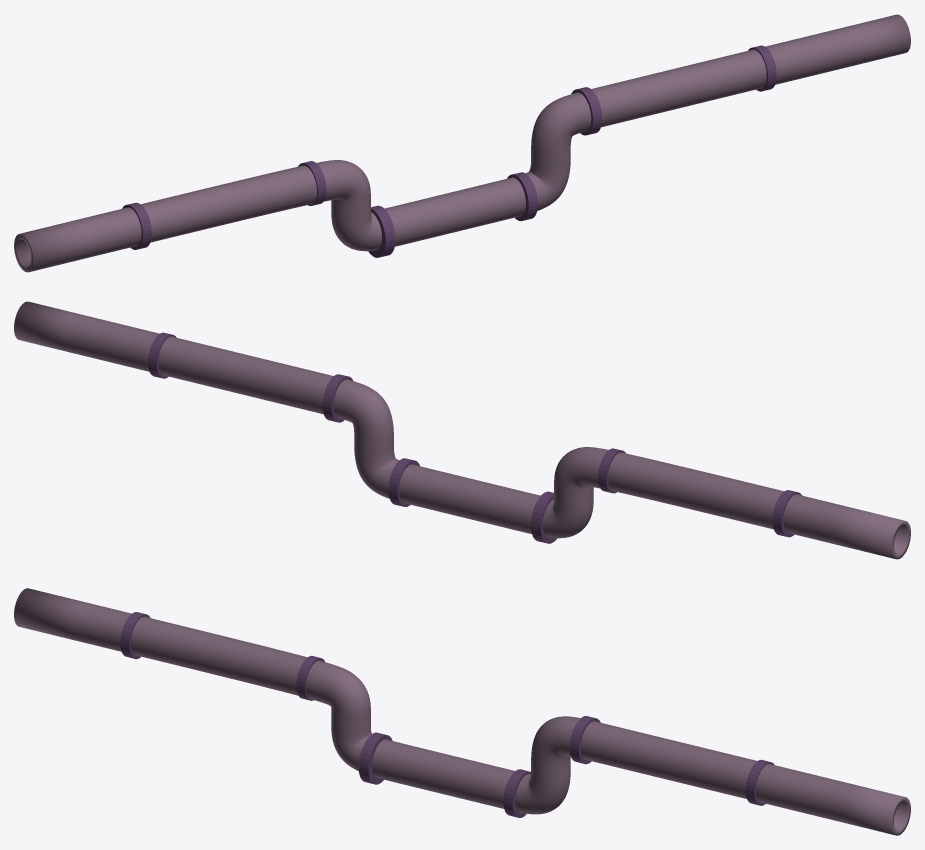
File: パイプ２＿修正版.fbx
3 views of the same model, one above another, from view 1: azimuth 30°, elevation 25°; view 2: azimuth 150°, elevation 25°; view 3: azimuth 330°, elevation 25° (orthographic).
Parts seen in each view (by area): view 1: NURBSパス.002, 円柱.022, 円柱.021, 円柱.018, 円柱.019, 円柱.017; view 2: NURBSパス.002, 円柱.022, 円柱.018, 円柱.021, 円柱.019, 円柱.017; view 3: NURBSパス.002, 円柱.022, 円柱.021, 円柱.018, 円柱.019, 円柱.017.
Boxes of the visible parts, left/top/right/bottom form: NURBSパス.002: left=14, top=14, right=910, bottom=272; 円柱.022: left=368, top=205, right=395, bottom=257; 円柱.021: left=507, top=172, right=537, bottom=221; 円柱.018: left=571, top=87, right=602, bottom=135; 円柱.019: left=122, top=202, right=151, bottom=249; 円柱.017: left=748, top=45, right=776, bottom=91; NURBSパス.002: left=14, top=301, right=910, bottom=559; 円柱.022: left=531, top=491, right=556, bottom=543; 円柱.018: left=322, top=374, right=353, bottom=422; 円柱.021: left=388, top=458, right=419, bottom=506; 円柱.019: left=772, top=490, right=801, bottom=537; 円柱.017: left=148, top=332, right=176, bottom=378; NURBSパス.002: left=14, top=588, right=910, bottom=835; 円柱.022: left=358, top=732, right=392, bottom=784; 円柱.021: left=503, top=769, right=530, bottom=817; 円柱.018: left=569, top=716, right=600, bottom=764; 円柱.019: left=120, top=612, right=150, bottom=659; 円柱.017: left=745, top=759, right=774, bottom=805.
Bounding box in the file's own units: 13.17 × 1.63 × 0.6642.
